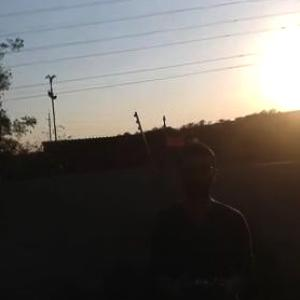follow: (141, 137, 259, 299)
